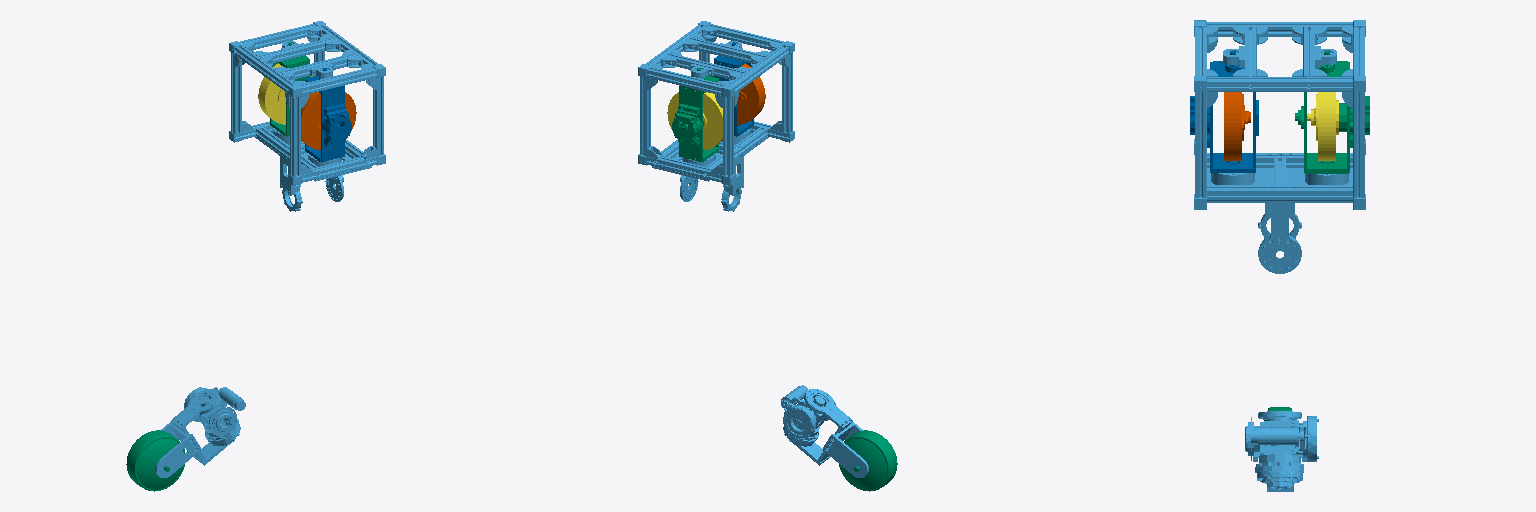
--- Facts derived from the render (not from the file) ---
Views: 3 orthographic renders of the robot side by side, from view 1: azimuth 30°, elevation 25°; view 2: azimuth 150°, elevation 25°; view 3: azimuth 270°, elevation 25°.
Model wheeled_inverted_pendulum with 11 links and 10 joints (5 revolute, 3 continuous, 2 fixed), rooted at cmg, posed joints at zero except 3 at the middle of their limits (hip_pitch_joint = 1.3, knee_joint = -1.55, ankle_pitch_joint = 1.3).
Links seen in each view (by area): view 1: frame, ankle_link, wheel_link, Right_gimbal, Right_flywheel, Left_flywheel, Left_gimbal; view 2: frame, ankle_link, wheel_link, Left_gimbal, Left_flywheel, Right_flywheel, Right_gimbal; view 3: frame, ankle_link, Left_gimbal, Right_gimbal, Left_flywheel, Right_flywheel.
Link boxes in pixels (<box>): frame: <box>229,21,385,211</box>; ankle_link: <box>155,387,245,477</box>; wheel_link: <box>126,430,184,491</box>; Right_gimbal: <box>305,68,351,161</box>; Right_flywheel: <box>301,92,356,149</box>; Left_flywheel: <box>258,63,312,124</box>; Left_gimbal: <box>264,42,309,136</box>; frame: <box>638,21,794,211</box>; ankle_link: <box>781,385,868,477</box>; wheel_link: <box>839,430,897,491</box>; Left_gimbal: <box>672,68,718,161</box>; Left_flywheel: <box>667,92,722,149</box>; Right_flywheel: <box>711,63,765,124</box>; Right_gimbal: <box>714,42,759,136</box>; frame: <box>1194,20,1365,273</box>; ankle_link: <box>1245,411,1318,491</box>; Left_gimbal: <box>1295,51,1369,173</box>; Right_gimbal: <box>1190,51,1258,172</box>; Left_flywheel: <box>1307,92,1338,160</box>; Right_flywheel: <box>1224,92,1250,160</box>.
Bounding box of the posed robot: 0.5911 × 0.3059 × 1 m (x, y, z).
Meshes: 10 distinct files referenced, 7 mesh visuals loaded (7 binary STL); not drawn: 3 (reference not matched to a file when rendering).

URDF robot description (wheeled_inverted_pendulum):
<?xml version="1.0"?>

<robot name="wheeled_inverted_pendulum">

        <link name="cmg">		    
		</link>

        <joint name="cmg_joint" type="fixed">
		    <origin xyz="0 0 1.022142" rpy="0.0 0.0 0.0" /> 
		    <parent link="cmg"/>
		    <child link="frame"/>
		</joint> 

        <link name="frame">
            <visual>
                <origin xyz="0 0 0" rpy="1.5708 0.0 0"/> <!--xyz="0.0 0.0 0.0" rpy="0 0.0 0" -->
                <geometry>
                    <mesh filename="package://cmg_leg_description/meshes/cmg_link.STL" scale="0.001 0.001 0.001"/>         
                </geometry>
                <material name=""/>
            </visual>

            <collision>
                <origin xyz="0 0 0" rpy="1.5708 0.0 0.0"/>
                <geometry>
                    <mesh filename="package://cmg_leg_description/meshes/cmg_link.STL" scale="0.001 0.001 0.001"/>
                </geometry>
            </collision>

            <inertial>
                <mass value="2.84" /> <!--3.037-->
                <origin xyz="0 0 -0.05" rpy="1.5708 0.0 0"/>
                <inertia ixx="0.069831822" ixy="0.000002709"  ixz="0.001167158"  iyy="0.062838135"  iyz="0.000012214"  izz="0.037865996" />
            </inertial>
        </link>

<!-- ######################################################################################### -->

        <joint name="Left_gimbal_joint" type="revolute">
            <!-- <origin xyz="-0.000001 0.08 -0.0015" rpy="0 0 1.57"/> -->
            <origin xyz="0 0.08 0" rpy="0 0 0"/>
            <axis xyz="0 0 1" />
            <parent link="frame"/>
            <child link="Left_gimbal"/>            
            <limit effort="100" velocity="100" upper="1.57" lower="-1.57"/>
            <!-- <calibration falling="1.0"/> -->
            <joint_properties damping="0.0" friction="0.0"/>
            <mimic joint="Right_gimbal_joint" multiplier="-1.0"/>

        </joint>

<!-- ######################################################################################### -->

        <link name="Left_gimbal">
            <visual>
                <origin xyz="0.0 0.0 0.0" rpy="0 0.0 0"/> 
                <geometry>
                    <mesh filename="package://cmg_leg_description/meshes/left_gimbal_link.STL" scale="0.001 0.001 0.001"/>         
                </geometry>
                <material name=""/>
            </visual>
            <collision>
                <origin xyz="0 0 0" rpy="0 0.0 0.0"/>
                <geometry>
                    <mesh filename="package://cmg_leg_description/meshes/left_gimbal_link.STL" scale="0.001 0.001 0.001"/>        
                </geometry>
            </collision>
            <inertial>
                <mass value="1" /><!-- 1.095 -->
                <origin xyz="0 0 0" />
                <inertia ixx="0.003773117" ixy="0" ixz="0" iyy="0.003989672" iyz="0" izz="0.00061837"/>
            </inertial>
        </link>

<!-- ######################################################################################### -->

         <joint name="Left_flywheel_joint" type="continuous">
            <origin xyz="0 0 0" rpy="0 0 0"/>
            <axis xyz="0 1 0" />
            <parent link="Left_gimbal"/>
            <child link="Left_flywheel"/>
            <limit effort="100" velocity="1000"/>
            <joint_properties damping="0.0" friction="0.0"/>
            <mimic joint="Right_gimbal_joint" multiplier="-1.0"/>
        </joint>

<!-- ######################################################################################### -->

        <link name="Left_flywheel">
            <visual>
                <origin xyz="0 0 0" rpy="0 0 0" />
                <geometry>
                    <mesh filename="package://cmg_leg_description/meshes/left_flywheel_link.STL" scale="0.001 0.001 0.001" />
                </geometry>
                <material name=""/>
            </visual>

            <collision>
                <geometry>
                    <mesh filename="package://cmg_leg_description/meshes/left_flywheel_link.STL" scale="0.001 0.001 0.001" />
                </geometry>
            </collision>

            <inertial>
                <mass value="4" />
                <origin xyz="0 0 0" />
                <inertia ixx="0.005950" ixy="0" ixz="0" iyy="0.011299999" iyz="0" izz="0.005950"/>
            </inertial>
        </link>

<!-- ######################################################################################### -->

        <joint name="Right_gimbal_joint" type="revolute">            
            <origin xyz="0 -0.08 0" rpy="0 0 0"/>
            <axis xyz="0 0 1" />
            <parent link="frame"/>
            <child link="Right_gimbal"/>            
            <limit effort="100" velocity="100" upper="1.57" lower="-1.57"/>
            <joint_properties damping="0.0" friction="0"/>
        </joint>

<!-- ######################################################################################### -->

        <link name="Right_gimbal">
            <visual>
                <origin xyz="0.0 0.0 0.0" rpy="0 0.0 3.14"/> 
                <geometry>
                    <mesh filename="package://cmg_leg_description/meshes/right_gimbal_link.STL" scale="0.001 0.001 0.001"/>         
                </geometry>
                <material name=""/>
            </visual>
            <collision>
                <origin xyz="0 0 0" rpy="0 0.0 3.14"/>
                <geometry>
                    <mesh filename="package://cmg_leg_description/meshes/right_gimbal_link.STL" scale="0.001 0.001 0.001"/>        
                </geometry>
            </collision>
            <inertial>
                <mass value="1" />
                 <!-- 1.095 -->
                <origin xyz="0 0 0" />
                <inertia ixx="0.003773117" ixy="0" ixz="0" iyy="0.003989672" iyz="0" izz="0.00061837"/>
            </inertial>
        </link>

<!-- ######################################################################################### -->

        <joint name="Right_flywheel_joint" type="continuous">
            <origin xyz="0 0 0" rpy="0 0 0"/>
            <axis xyz="0 1 0" />
            <parent link="Right_gimbal"/>
            <child link="Right_flywheel"/>
            <limit effort="100" velocity="1000"/>
            <joint_properties damping="0.0" friction="0.0"/>
        </joint>

<!-- ######################################################################################### -->

        <link name="Right_flywheel">
            <visual>
                <origin xyz="0 0 0" rpy="3.14 0 0" />
                <geometry>
                    <mesh filename="package://cmg_leg_description/meshes/right_flywheel_link.STL" scale="0.001 0.001 0.001" />
                </geometry>
                <material name=""/>
            </visual>

            <collision>
                <origin xyz="0 0 0" rpy="3.14 0 0" />
                <geometry>
                    <mesh filename="package://cmg_leg_description/meshes/right_flywheel_link.STL" scale="0.001 0.001 0.001" />
                </geometry>
            </collision>

            <inertial>
                <mass value="4" />
                <origin xyz="0 0 0" />
                <inertia ixx="0.005950" ixy="0" ixz="0" iyy="0.011299999" iyz="0" izz="0.005950"/>
            </inertial>
        </link>
        
<!-- ######################################################################################### -->
<!-- -0.220996 -->
        <joint name="hip_roll_joint" type="fixed">
            <origin xyz="0 0 -0.2222" rpy="0 0 0"/>
            <parent link="frame"/>
            <child link="hip_link"/>
            <!-- <axis xyz="1 0 0"/>
            <limit effort="100" velocity="1000" upper="0.785" lower="-0.785"/>
            <joint_properties damping="1.0" friction="1.0"/> -->
        </joint>

        <link name="hip_link">
            <visual>
                <origin xyz="-0.042455 0 0" rpy="3.14 0 0"/> 
                <geometry>
                    <mesh filename="package://cmg_leg_description/meshes/hip_link.STL" scale="0.001 0.001 0.001"/>         
                </geometry>
                <material name=""/>
            </visual>

            <collision>
                <origin xyz="-0.042455 0 0" rpy="3.14 0 0"/>
                <geometry>
                    <!-- <box size = "  0.127 0.168778 0.958442 "/>                     -->
                    <mesh filename="package://cmg_leg_description/meshes/hip_link.STL" scale="0.001 0.001 0.001"/>
                </geometry>
            </collision>

            <inertial>
                <mass value="3.325" /> 
                <origin xyz="0.0 0.0 0.0" rpy="3.14 0.0 0"/>
                <inertia ixx="0.005616834" ixy="0.00038757"  ixz="-0.000670089"  iyy="0.006407443"  iyz="-0.000643705" izz="0.006621237" />
            </inertial>
        </link>

<!-- ######################################################################################### -->

        <joint name="hip_pitch_joint" type="revolute">
		    <!-- <origin xyz="0 -0.0045 -0.451221" rpy="0.0 0.0 0.0" />  -->
		    <origin xyz="0 0 0" rpy="0.0 -0.8744 0.0" />
            <!-- -0.8  -->
            <axis xyz="0 1 0"/>
		    <parent link="hip_link"/>
		    <child link="hip_to_knee_link" />
            <limit effort="1000" velocity="1000" upper="2.5" lower="0.1"/>
            <joint_properties damping="1.0" friction="1.0"/>
		</joint> 

        <link name="hip_to_knee_link">
            <visual>
                <origin xyz="0.0 0.0665 0" rpy="3.14 0 0"/> 
                <geometry>
                    <mesh filename="package://cmg_leg_description/meshes/hip_to_knee_link.STL" scale="0.001 0.001 0.001"/>         
                </geometry>
                <material name=""/>
                    
            </visual>

            <collision>
                <origin xyz="0 0.0665 0.0" rpy="3.14 0 0"/>
                <geometry>
                    <!-- <box size = "  0.127 0.168778 0.958442 "/>                     -->
                    <mesh filename="package://cmg_leg_description/meshes/hip_to_knee_link.STL" scale="0.001 0.001 0.001"/>
                </geometry>
            </collision>

            <inertial>
                <mass value="1.739" /> 
                <origin xyz="0.0 0 -0.14958" rpy="3.14 0 0"/>
                <inertia ixx="0.008595913" ixy="0.000104152"  ixz="0.000298503"  iyy="0.007917693"  iyz="-0.000246913" izz="0.002944951" />
            </inertial>
        </link> 
<!-- ######################################################################################### -->

        <joint name="knee_joint" type="revolute">
		    <origin xyz="0 0 -0.28" rpy="0.0 1.6321 0.0" /> 
            <!-- 1.5 -->
            <axis xyz="0 1 0"/>
		    <parent link="hip_to_knee_link"/>
		    <child link="knee_ankle_link" />
            <limit effort="1000" velocity="1000" upper="-0.1" lower="-3.0"/>
            <joint_properties damping="1.0" friction="1.0"/>
		</joint> 

        <link name="knee_ankle_link">
            <visual>
                <origin xyz="0.000045 -0.059 0" rpy="3.14 -0 0"/> 
                <geometry>
                    <mesh filename="package://cmg_leg_description/meshes/knee_to_ankle_pitch_link.STL" scale="0.001 0.001 0.001"/>         
                </geometry>
                <material name=""/>
                    
            </visual>

            <collision>
                <origin xyz="0.000045 -0.059 0" rpy="3.14 -0 0"/>
                <geometry>
                    <!-- <box size = "  0.127 0.168778 0.958442 "/>                     -->
                    <mesh filename="package://cmg_leg_description/meshes/knee_to_ankle_pitch_link.STL" scale="0.001 0.001 0.001"/>
                </geometry>
            </collision>

            <inertial>
                <mass value="1.416" /> 
                <origin xyz="0.0 0 -0.12016" rpy="3.14 -0 0"/>
                <inertia ixx="0.010192583" ixy="0.000128782"  ixz="0.000780769"  iyy="0.009599672"  iyz="-0.000476197" izz="0.002390603" />
            </inertial>
        </link> 
<!-- ######################################################################################### -->

        <joint name="ankle_pitch_joint" type="revolute">
		    <origin xyz="0 0 -0.279942" rpy="0.0 -0.7577 0.0" /> 
            <!-- -0.7 -->
            <axis xyz="0 1 0"/>
		    <parent link="knee_ankle_link"/>
		    <child link="ankle_link" />
            <limit effort="1000" velocity="1000" upper="2.5" lower="0.1"/>
            <joint_properties damping="1.0" friction="1.0"/>
		</joint> 

        <link name="ankle_link">
            <visual>
                <origin xyz="0.0 0.0 0.0" rpy="0 0.0 0"/> 
                <geometry>
                    <mesh filename="package://cmg_leg_description/meshes/ankle_link.STL" scale="0.001 0.001 0.001"/>         
                </geometry>
                <material name=""/>
                    
            </visual>

            <collision>
                <origin xyz="0 0 0" rpy="0 0.0 0"/>
                <geometry>
                    <!-- <box size = "  0.127 0.168778 0.958442 "/>                     -->
                    <mesh filename="package://cmg_leg_description/meshes/ankle_link.STL" scale="0.001 0.001 0.001"/>
                </geometry>
            </collision>

            <inertial>
                <mass value="2.786" /> 
                <origin xyz="0.0 0.0 0.227234" rpy="0 0.0 0"/>
                <inertia ixx="0.006981371" ixy="0.000264258"  ixz="0.000196616"  iyy="0.007514491"  iyz="0.000229715" izz="0.005584527" />
            </inertial>
        </link> 


<!-- ######################################################################################### -->

        <joint name="wheel_joint" type="continuous">
		    <!-- <origin xyz="0 -0.0045 -0.451221" rpy="0.0 0.0 0.0" />  -->
		    <origin xyz="0 0 -0.171" rpy="0.0 0.0 0.0" /> 
            <axis xyz="0 1 0"/>
		    <parent link="ankle_link"/>
		    <child link="wheel_link" />
            <limit effort="100" velocity="1000"/>
            <joint_properties damping="1.0" friction="1.0"/>
		</joint>

         <link name="wheel_link">
            <visual>
                <origin xyz="0.0 0.0 -0.0" rpy="0 0.0 0"/> 
                <geometry>
                    <mesh filename="package://cmg_leg_description/meshes/wheel_link.STL" scale="0.001 0.001 0.001"/>         
                </geometry>
                <material name=""/>
            </visual>

            <collision>                
                <origin xyz="0 0 -0.0" rpy="0 0.0 0"/>
                <geometry>
                    <mesh filename="package://cmg_leg_description/meshes/wheel_link.STL" scale="0.001 0.001 0.001"/>                 
                </geometry>
            </collision>

            <inertial>
                <mass value="2.292" />
                <origin xyz="0 0 -0.0" />
                <inertia ixx="0.002997277" ixy="0.0" ixz="0.0" iyy="0.004806909" iyz="0.0" izz="0.002997301"/>
            </inertial>
        </link> 

<!-- ######################################################################################### -->

        <gazebo reference="frame">
            <mu1>1.0</mu1>
            <mu2>1.0</mu2> 
            <kp>1e+13</kp>
            <kd>1.0</kd>
            <maxVel>0.001</maxVel>
            <minDepth>0.00000000001</minDepth>
            <gravity>1</gravity>
            <material>Gazebo/Grey</material>
            <!-- <selfCollide>true</selfCollide> -->
        </gazebo>

        <gazebo reference="Left_gimbal">
            <mu1>1.0</mu1>
            <mu2>1.0</mu2> 
            <kp>1e+13</kp>
            <kd>1.0</kd>
            <maxVel>0.001</maxVel>
            <minDepth>0.00000000001</minDepth>
            <gravity>1</gravity>
            <material>Gazebo/Grey</material>
            <selfCollide>true</selfCollide>
        </gazebo>

        <gazebo reference="Left_flywheel">
            <mu1>1.0</mu1>
            <mu2>1.0</mu2> 
            <kp>1e+13</kp>
            <kd>1.0</kd>
            <maxVel>0.001</maxVel>
            <minDepth>0.00000000001</minDepth>
            <gravity>1</gravity>
            <material>Gazebo/White</material>
        </gazebo>


        <gazebo reference="Right_gimbal">
            <mu1>1.0</mu1>
            <mu2>1.0</mu2> 
            <kp>1e+13</kp>
            <kd>1.0</kd>
            <maxVel>0.001</maxVel>
            <minDepth>0.00000000001</minDepth>
            <gravity>1</gravity>
            <material>Gazebo/Grey</material>
            <selfCollide>true</selfCollide>
        </gazebo>

        <gazebo reference="Right_flywheel">
            <mu1>1.0</mu1>
            <mu2>1.0</mu2> 
            <kp>1e+13</kp>
            <kd>1.0</kd>
            <maxVel>0.001</maxVel>
            <minDepth>0.00000000001</minDepth>
            <gravity>1</gravity>
            <material>Gazebo/White</material>
        </gazebo>


<!-- ######################################################################################### -->

        <gazebo reference="hip_link">
            <mu1>1.0</mu1>
            <mu2>1.0</mu2> 
            <kp>1e+13</kp>
            <kd>1.0</kd>
            <maxVel>0.001</maxVel>
            <minDepth>0.00000000001</minDepth>
            <gravity>1</gravity>
            <material>Gazebo/Grey</material>
        </gazebo>

        <gazebo reference="hip_to_knee_link">
            <mu1>1.0</mu1>
            <mu2>1.0</mu2> 
            <kp>1e+13</kp>
            <kd>1.0</kd>
            <maxVel>0.001</maxVel>
            <minDepth>0.00000000001</minDepth>
            <gravity>1</gravity>
            <material>Gazebo/Grey</material>
        </gazebo>

        <gazebo reference="knee_ankle_link">
            <mu1>1.0</mu1>
            <mu2>1.0</mu2> 
            <kp>1e+13</kp>
            <kd>1.0</kd>
            <maxVel>0.001</maxVel>
            <minDepth>0.00000000001</minDepth>
            <gravity>1</gravity>
            <material>Gazebo/Grey</material>
        </gazebo>

        <gazebo reference="ankle_link">
            <mu1>1.0</mu1>
            <mu2>1.0</mu2> 
            <kp>1e+13</kp>
            <kd>1.0</kd>
            <maxVel>0.001</maxVel>
            <minDepth>0.00000000001</minDepth>
            <gravity>1</gravity>
            <material>Gazebo/Grey</material>
        </gazebo>

        <gazebo reference="wheel_link">
            <collision name="wheel_collision">
                <surface>
                    <friction>
                        <torsional>
                            <coefficient>1</coefficient>
                            <use_patch_radius>true</use_patch_radius>
                            <patch_radius>0.02</patch_radius>
                        </torsional>
                    </friction>
                </surface>
            </collision>
            <mu1>1.0</mu1>
            <mu2>1.0</mu2> 
            <kp>1e+13</kp>
            <kd>1.0</kd>
            <maxVel>0.001</maxVel>
            <minDepth>0.00000000001</minDepth>
            <gravity>1</gravity>
            <material>Gazebo/White</material>
        </gazebo>


<!-- ######################################################################################### -->

        <gazebo>
            <plugin name="gazebo_ros_control" filename="libgazebo_ros_control.so">
                <controlPeriod>0.001</controlPeriod>
                <robotNamespace>/wheeled_inverted_pendulum</robotNamespace>
                <!-- <jointName> Right_gimbal_joint, Left_gimbal_joint, Left_flywheel_joint, Right_flywheel_joint, hip_roll_joint, hip_pitch_joint, knee_joint, ankle_pitch_joint, ankle_roll_joint, wheel_joint </jointName> -->
                <robotSimType>gazebo_ros_control/DefaultRobotHWSim</robotSimType>
                <legacyModeNS>true</legacyModeNS>
            </plugin>
        </gazebo>

        <gazebo>
            <plugin name="mimic_control" filename="libroboticsgroup_upatras_gazebo_mimic_joint_plugin.so">
                <joint>Right_gimbal_joint</joint>
                <mimicJoint>Left_gimbal_joint</mimicJoint>
                <multiplier>-1.0</multiplier>
                <!-- <hasPID>/gazebo_ros_control/pid_gains/Left_gimbal_joint</hasPID> -->
                <!-- /gazebo_ros_control/pid_gains/Left_gimbal_joint -->
            </plugin>
        </gazebo>

        <transmission name="Left_flywheel_trans">
            <type>transmission_interface/SimpleTransmission</type>
            <joint name="Left_flywheel_joint" >
                <hardwareInterface>hardware_interface/VelocityJointInterface</hardwareInterface>
            </joint>
            <actuator name="Left_flywheel_motor">
                <hardwareInterface>hardware_interface/VelocityJointInterface</hardwareInterface>
                <mechanicalReduction>1</mechanicalReduction>
            </actuator>
        </transmission>

        <!-- <transmission name="Left_gimbal_trans">
            <type>transmission_interface/SimpleTransmission</type>
            <joint name="Left_gimbal_joint" >
                <hardwareInterface>hardware_interface/EffortJointInterface</hardwareInterface>
            </joint>
            <actuator name="Left_gimbal_motor">
                <hardwareInterface>hardware_interface/EffortJointInterface</hardwareInterface>
                <mechanicalReduction>1</mechanicalReduction>
            </actuator>
        </transmission> -->


        <transmission name="Right_flywheel_trans">
            <type>transmission_interface/SimpleTransmission</type>
            <joint name="Right_flywheel_joint" >
                <hardwareInterface>hardware_interface/VelocityJointInterface</hardwareInterface>
            </joint>
            <actuator name="Right_flywheel_motor">
                <hardwareInterface>hardware_interface/VelocityJointInterface</hardwareInterface>
                <mechanicalReduction>1</mechanicalReduction>
            </actuator>
        </transmission>

        <transmission name="Right_gimbal_trans">
            <type>transmission_interface/SimpleTransmission</type>
            <joint name="Right_gimbal_joint" >
                <hardwareInterface>hardware_interface/EffortJointInterface</hardwareInterface>
            </joint>
            <actuator name="Right_gimbal_motor">
                <hardwareInterface>hardware_interface/EffortJointInterface</hardwareInterface>
                <mechanicalReduction>1</mechanicalReduction>
            </actuator>
        </transmission>

<!-- ######################################################################################### -->

        <!-- <transmission name="hip_roll_trans">
            <type>transmission_interface/SimpleTransmission</type>
            <joint name="hip_roll_joint" >
                <hardwareInterface>hardware_interface/PositionJointInterface</hardwareInterface>
            </joint>
            <actuator name="hip_roll_motor">
                <hardwareInterface>hardware_interface/PositionJointInterface</hardwareInterface>
                <mechanicalReduction>1</mechanicalReduction>
            </actuator>
        </transmission> -->

        <transmission name="hip_pitch_trans">
            <type>transmission_interface/SimpleTransmission</type>
            <joint name="hip_pitch_joint" >
                <hardwareInterface>hardware_interface/EffortJointInterface</hardwareInterface>
            </joint>
            <actuator name="hip_pitch_motor">
                <hardwareInterface>hardware_interface/EffortJointInterface</hardwareInterface>
                <mechanicalReduction>1</mechanicalReduction>
            </actuator>
        </transmission>


        <transmission name="knee_trans">
            <type>transmission_interface/SimpleTransmission</type>
            <joint name="knee_joint" >
                <hardwareInterface>hardware_interface/EffortJointInterface</hardwareInterface>
            </joint>
            <actuator name="knee_motor">
                <hardwareInterface>hardware_interface/EffortJointInterface</hardwareInterface>
                <mechanicalReduction>1</mechanicalReduction>
            </actuator>
        </transmission>

        <transmission name="ankle_pitch_trans">
            <type>transmission_interface/SimpleTransmission</type>
            <joint name="ankle_pitch_joint" >
                <hardwareInterface>hardware_interface/EffortJointInterface</hardwareInterface>
            </joint>
            <actuator name="ankle_pitch_motor">
                <hardwareInterface>hardware_interface/EffortJointInterface</hardwareInterface>
                <mechanicalReduction>1</mechanicalReduction>
            </actuator>
        </transmission>

        <!-- <transmission name="ankle_roll_trans">
            <type>transmission_interface/SimpleTransmission</type>
            <joint name="ankle_roll_joint" >
                <hardwareInterface>hardware_interface/PositionJointInterface</hardwareInterface>
            </joint>
            <actuator name="ankle_roll_motor">
                <hardwareInterface>hardware_interface/PositionJointInterface</hardwareInterface>
                <mechanicalReduction>1</mechanicalReduction>
            </actuator>
        </transmission> -->

        <transmission name="wheel_trans">
            <type>transmission_interface/SimpleTransmission</type>
            <joint name="wheel_joint" >
                <hardwareInterface>hardware_interface/EffortJointInterface</hardwareInterface>
            </joint>
            <actuator name="wheel_motor">
                <hardwareInterface>hardware_interface/EffortJointInterface</hardwareInterface>
                <mechanicalReduction>1</mechanicalReduction>
            </actuator>
        </transmission>

<!-- EffortJointInterface
PositionJointInterface
VelocityJointInterface -->

</robot>
